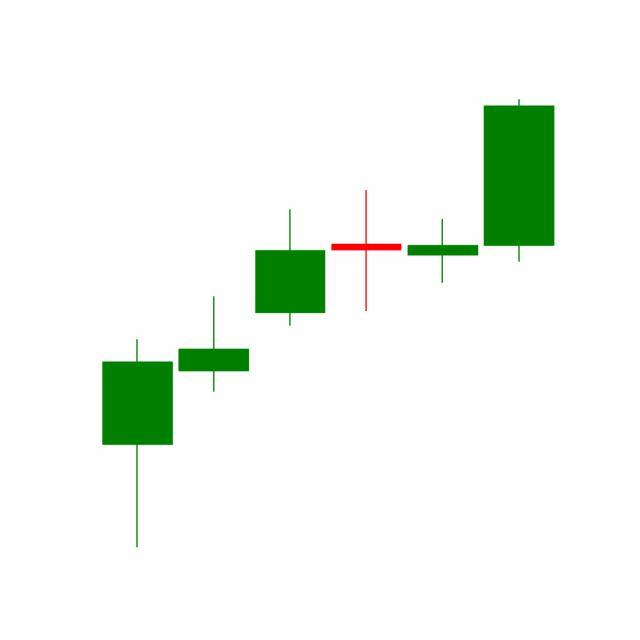Hikkake Pattern: (175, 99, 555, 396)
